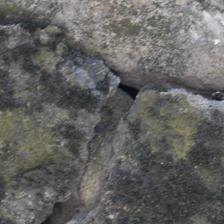Crack: (26, 42, 120, 176)
